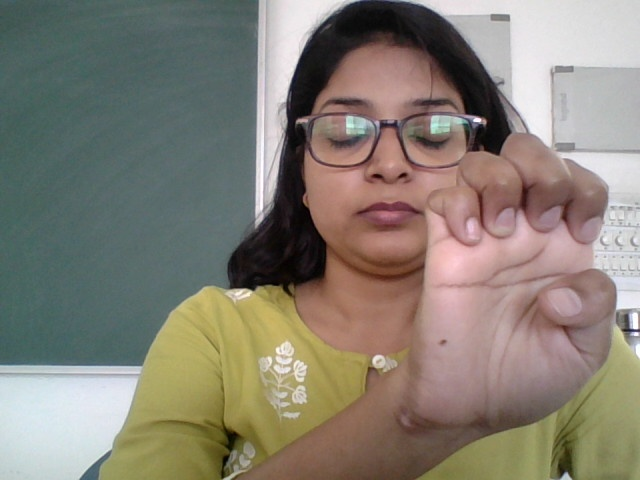E: (417, 133, 621, 446)
